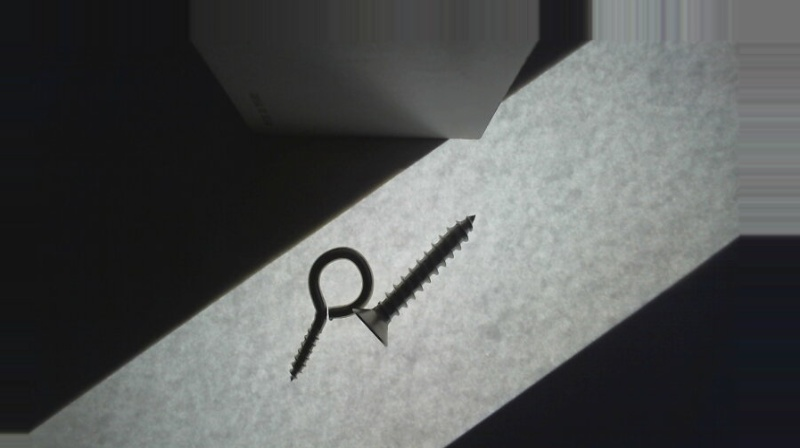O001: (286, 243, 376, 385)
S001: (354, 215, 479, 345)
